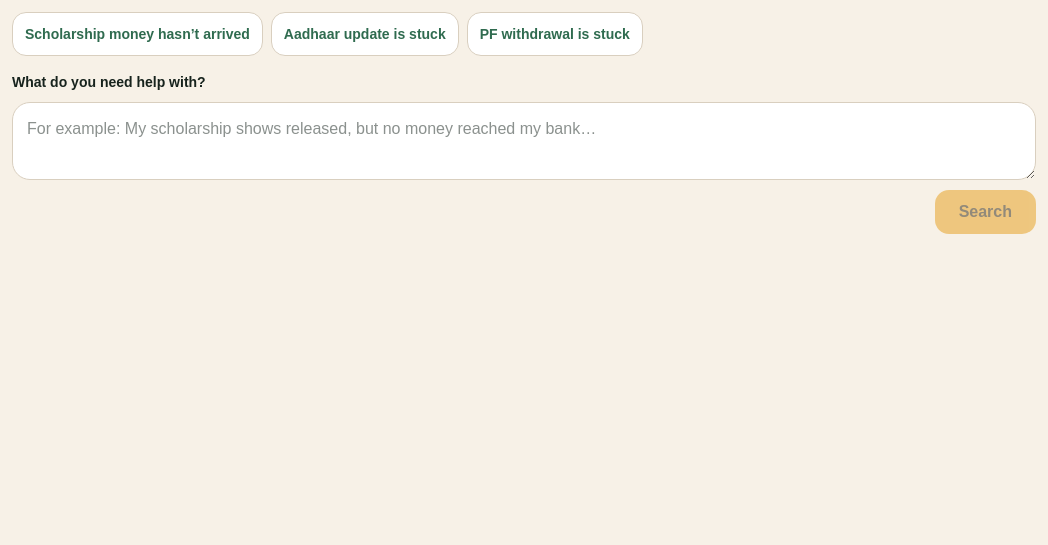
it: CitizenDiscovery › an ambiguous search asks a clarification beneath the original query
Replace the text in the text box labelled "What do you need help with?" with "My payment did not arrive" at (524, 141), box [12, 102, 1036, 180]
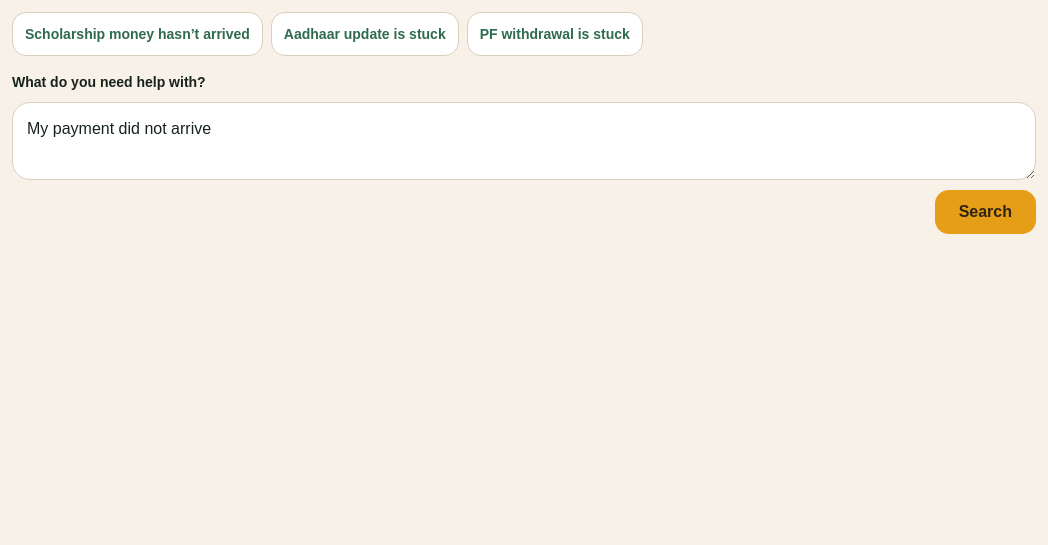
Click the button "Search" at (985, 212), box [935, 190, 1036, 234]
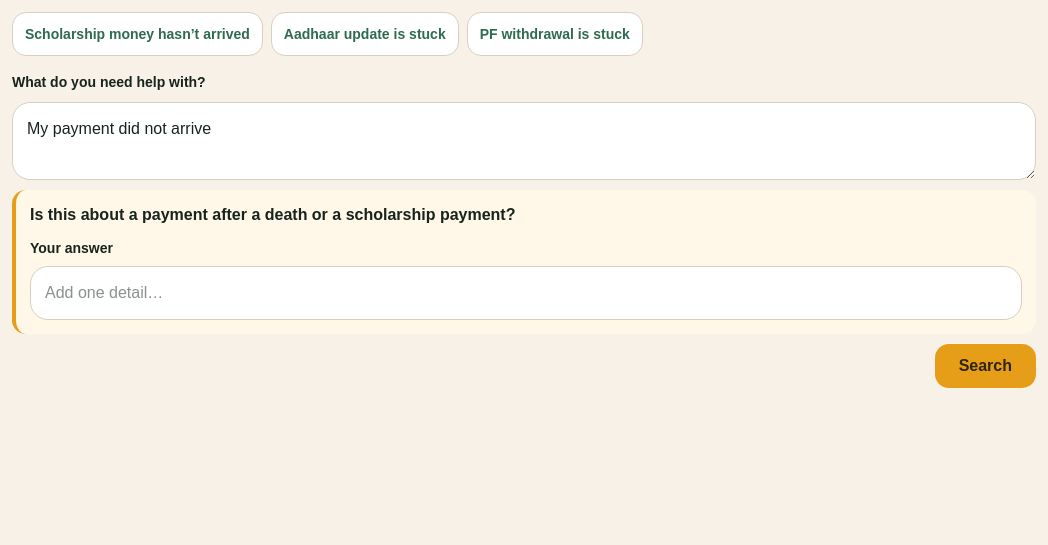
Check: the field labelled "Your answer" is shown
Check: the text "Is this about a payment after a death or a scholarship payment?" is shown, box [30, 206, 516, 223]
Type "Scholarship payment" into the field labelled "Your answer" at (526, 293), box [30, 266, 1022, 320]
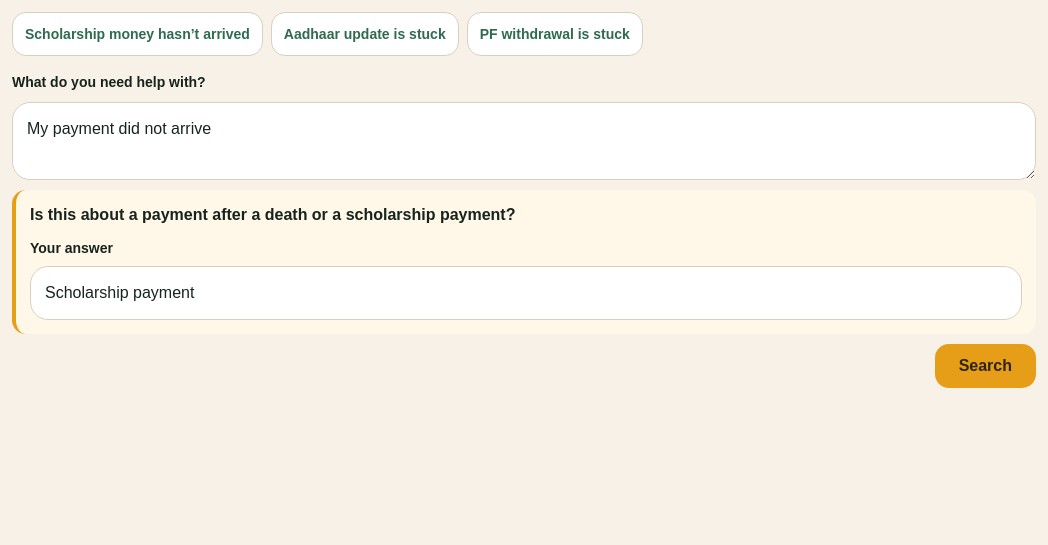
Click the button "Search" at (985, 366), box [935, 344, 1036, 388]
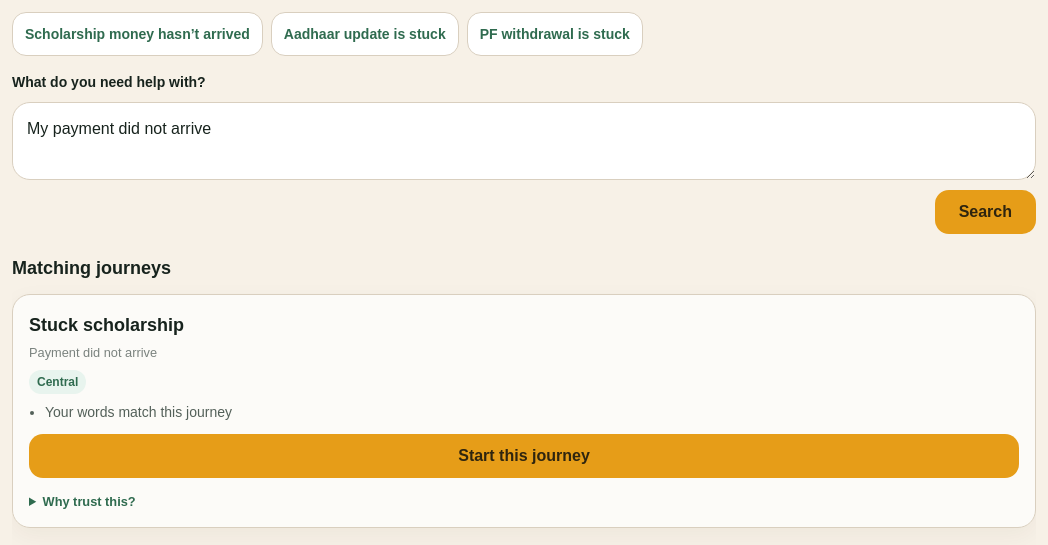
Check: the button "Start this journey" is shown, box [29, 434, 1019, 478]
